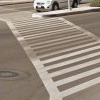crosswalk: (11, 17, 100, 96)
